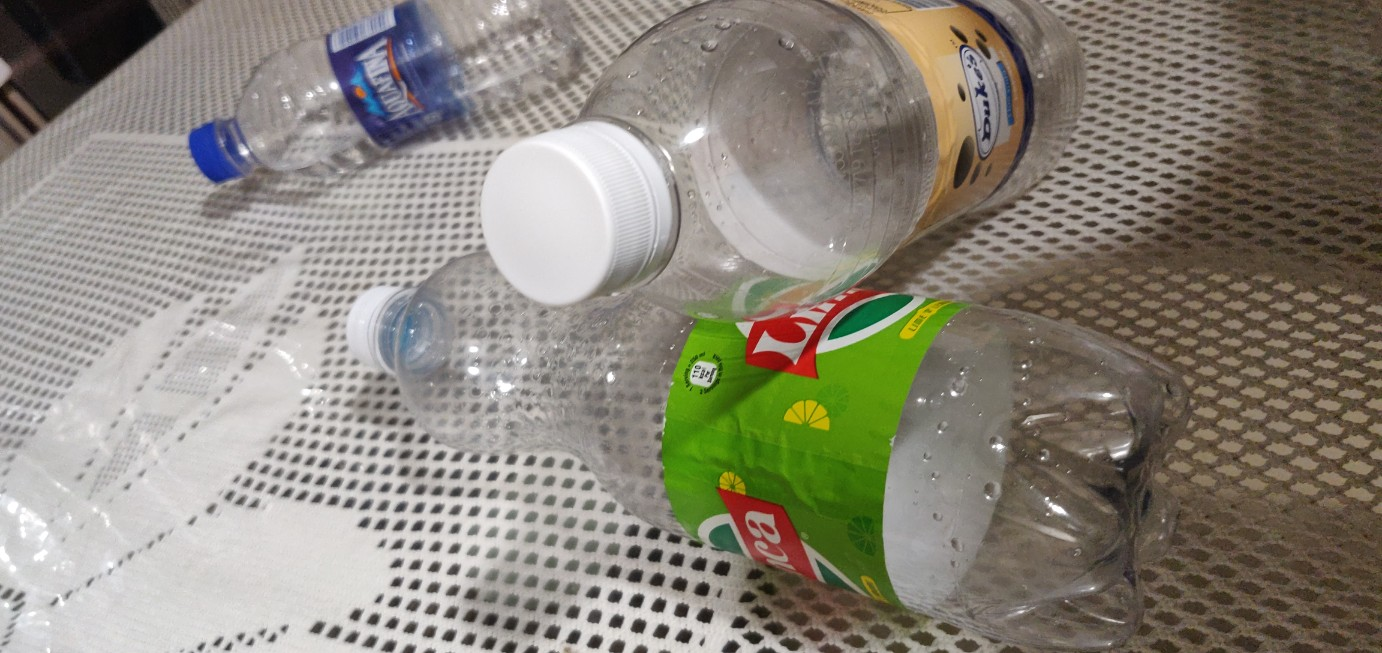Electronics: (327, 222, 1216, 653), (458, 1, 1102, 323), (179, 5, 601, 204)
